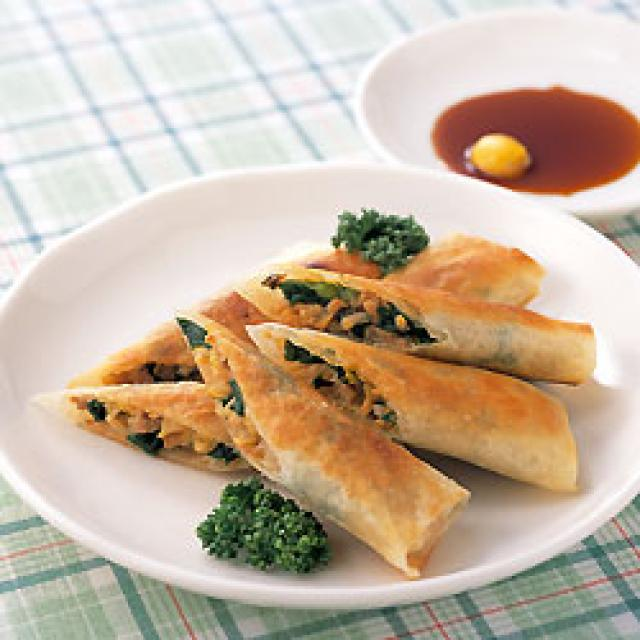鸡蛋料理: (46, 205, 604, 581)
